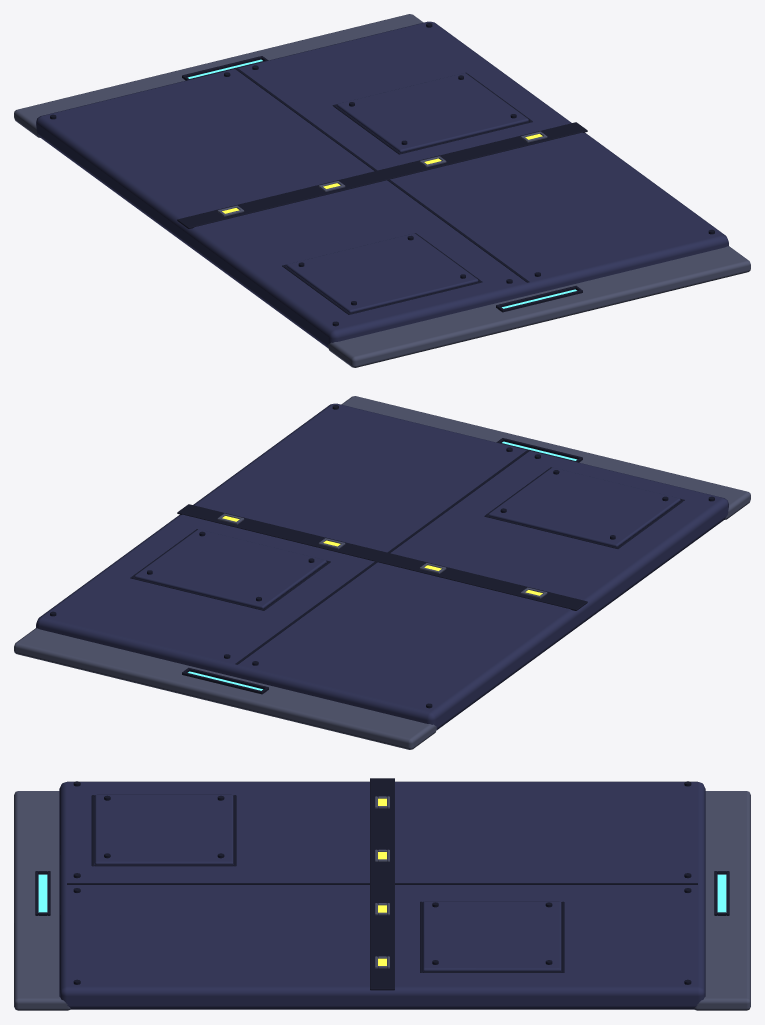
File: roof.spine.w2.d3.glb
3 views of the same model, one above another, from view 1: azimuth 30°, elevation 25°; view 2: azimuth 150°, elevation 25°; view 3: azimuth 270°, elevation 25° (orthographic). The views are drawn at different scales.
Parts seen in each view (by area): view 1: roof.spine.w2.d3; view 2: roof.spine.w2.d3; view 3: roof.spine.w2.d3.
Boxes of the visible parts, box(x1,y1,x2,y2) form: roof.spine.w2.d3: box(14, 14, 750, 367); roof.spine.w2.d3: box(14, 396, 750, 749); roof.spine.w2.d3: box(14, 778, 750, 1010).
Bounding box in the file's own units: 1.98 × 0.122 × 2.92.
